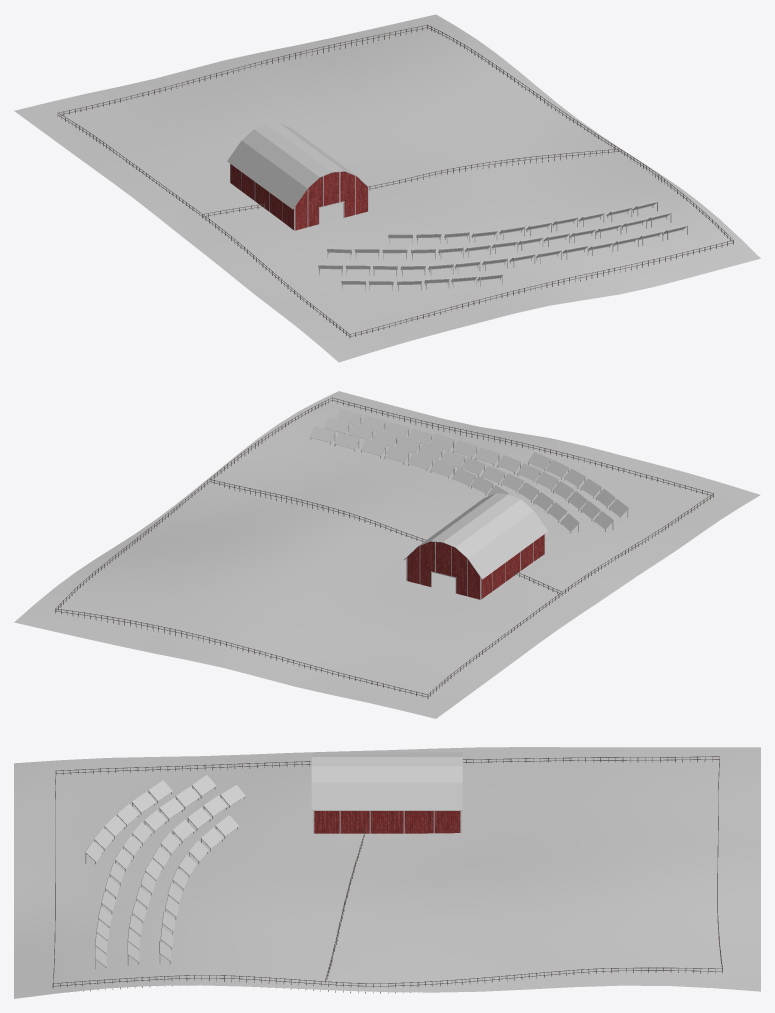
Rendered from agriculture_world.dae.
3 renders of one model, top to bottom at view 1: azimuth 30°, elevation 25°; view 2: azimuth 150°, elevation 25°; view 3: azimuth 270°, elevation 25°, orthographic. The views are drawn at different scales.
Visible parts, largest first — view 1: Ground, Barn.001, Barn, Cube.004, Cube.018, Cube.020, Cube.019, Cube.001; view 2: Ground, Barn.001, Barn, Cube.018, Cube.004, Cube.019, Cube.020, Cube.001; view 3: Ground, Barn.001, Barn, Cube.020, Cube.019.
Boxes of the visible parts, box(x1,y1,x2,y2) form: Ground: box(14, 14, 760, 362); Barn.001: box(227, 123, 371, 209); Barn: box(230, 164, 367, 230); Cube.004: box(349, 240, 732, 338); Cube.018: box(58, 24, 427, 115); Cube.020: box(428, 25, 733, 244); Cube.019: box(57, 112, 349, 336); Cube.001: box(368, 149, 619, 189); Ground: box(14, 391, 760, 718); Barn.001: box(403, 493, 547, 579); Barn: box(407, 534, 544, 599); Cube.018: box(55, 608, 427, 697); Cube.004: box(332, 397, 713, 497); Cube.019: box(427, 494, 712, 698); Cube.020: box(56, 397, 332, 610); Cube.001: box(210, 479, 425, 541); Ground: box(14, 747, 760, 998); Barn.001: box(311, 752, 462, 810); Barn: box(314, 811, 460, 833); Cube.020: box(52, 967, 722, 993); Cube.019: box(56, 756, 719, 774).
Bounding box in the file's own units: 120 × 160 × 18.18.
